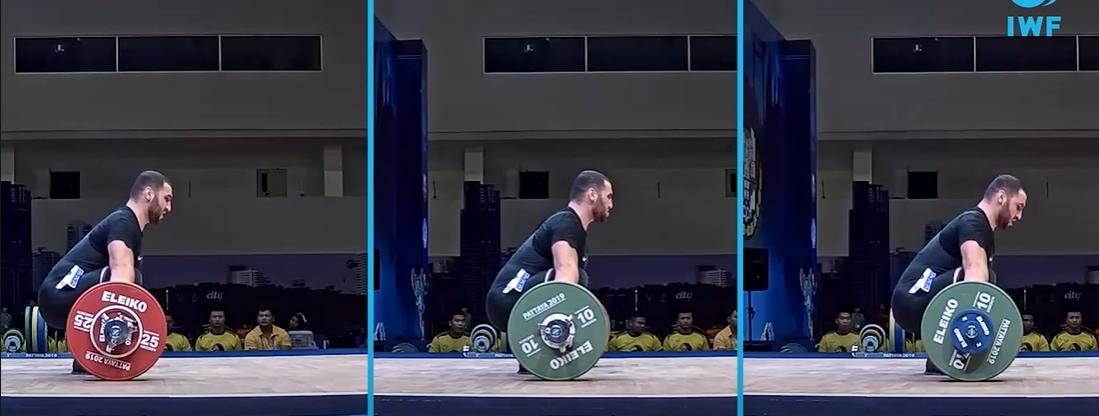Barbell: (531, 309, 582, 361), (98, 315, 144, 350), (960, 320, 983, 346)
